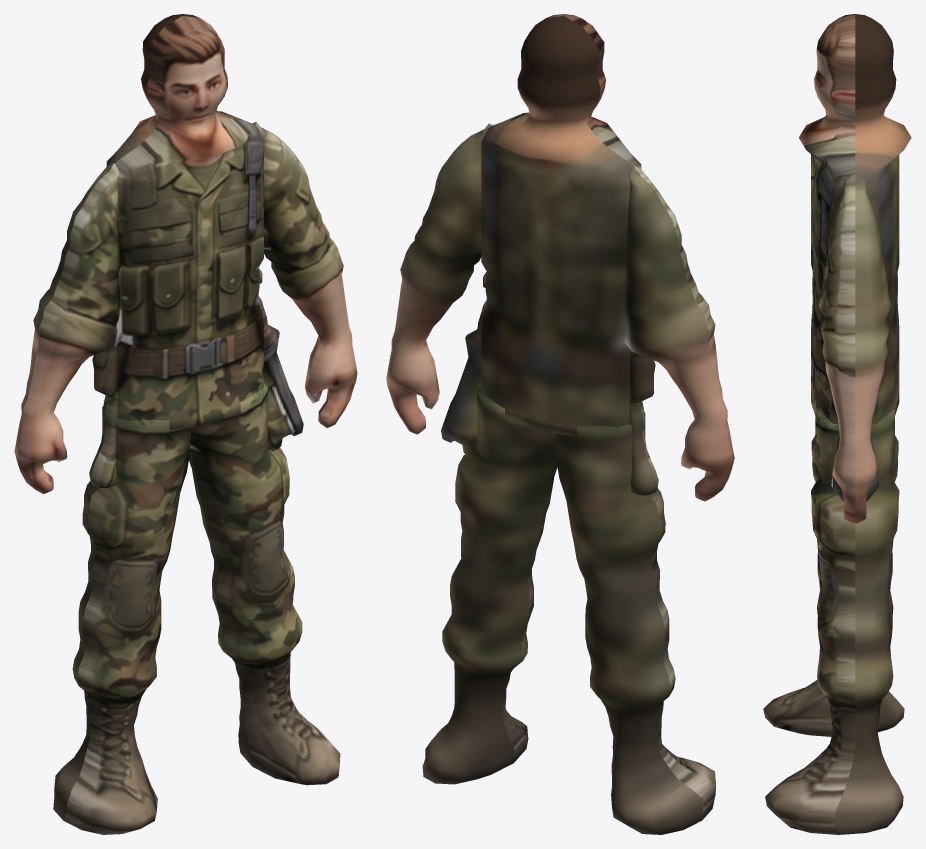
File: char_army.glb
The picture shows the model from 3 angles, left to right: view 1: azimuth 30°, elevation 25°; view 2: azimuth 150°, elevation 25°; view 3: azimuth 270°, elevation 25°; orthographic projection. The views are drawn at different scales.
Visible parts, largest first — view 1: Torso, LegA, LegB, ArmA, ArmB; view 2: Torso, LegA, LegB, ArmA, ArmB; view 3: LegB, Torso, ArmB, LegA.
Boxes of the visible parts, x1,y1,x2,y2 form: Torso: [106, 14, 263, 430]; LegA: [53, 406, 190, 834]; LegB: [189, 383, 340, 785]; ArmA: [14, 163, 122, 494]; ArmB: [252, 122, 357, 451]; Torso: [481, 14, 641, 436]; LegA: [556, 412, 715, 834]; LegB: [422, 388, 557, 784]; ArmA: [624, 165, 734, 501]; ArmB: [386, 123, 492, 457]; LegB: [765, 409, 903, 834]; Torso: [799, 14, 911, 424]; ArmB: [818, 173, 891, 524]; LegA: [763, 435, 904, 736].
Bounding box in the file's own units: 0.6846 × 1.5 × 0.2657.
Materials: 1 (1 with a texture image).
